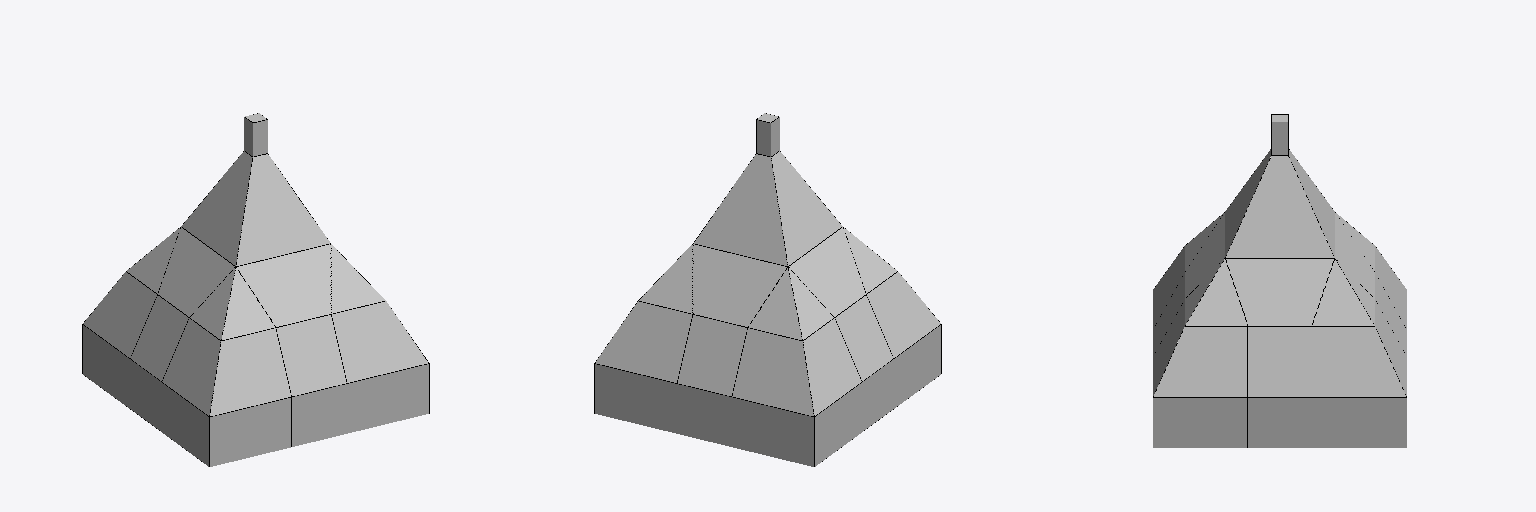
3 views of the same model, side by side, from view 1: azimuth 30°, elevation 25°; view 2: azimuth 150°, elevation 25°; view 3: azimuth 270°, elevation 25° (orthographic).
Visible parts, largest first — view 1: temp_tower_Cube.004; view 2: temp_tower_Cube.004; view 3: temp_tower_Cube.004.
Boxes of the visible parts, x1,y1,x2,y2 form: temp_tower_Cube.004: [82, 113, 429, 466]; temp_tower_Cube.004: [594, 113, 941, 466]; temp_tower_Cube.004: [1153, 114, 1406, 447].
Size of the model in its own units: 8 by 9.59 by 8.
Materials: 1 (1 with a texture image).